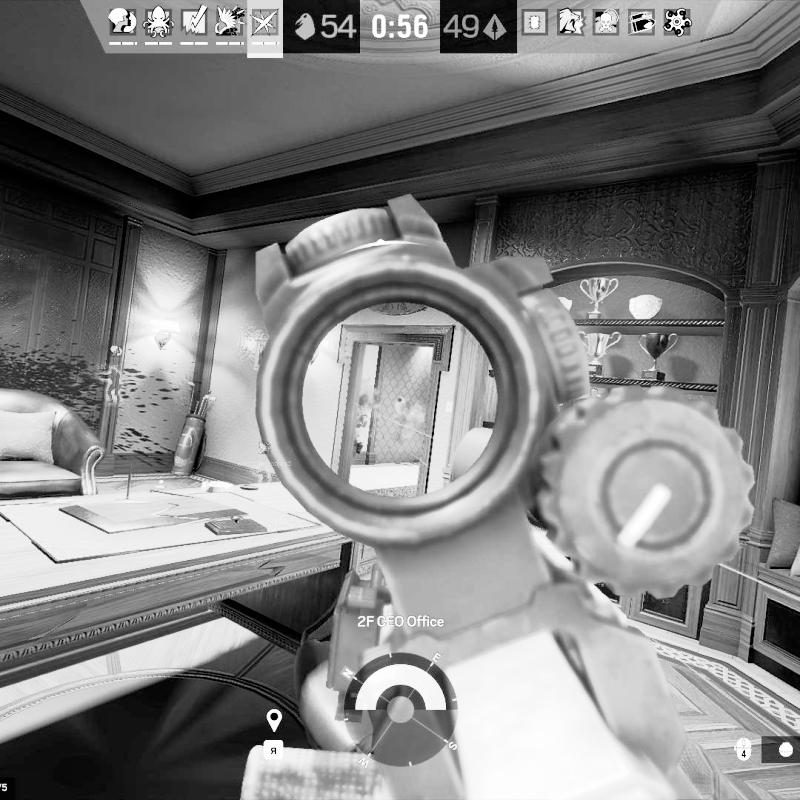Character: (350, 394, 373, 459)
Friend_label: (236, 440, 292, 468), (94, 345, 137, 371)
Head: (358, 394, 369, 408)
